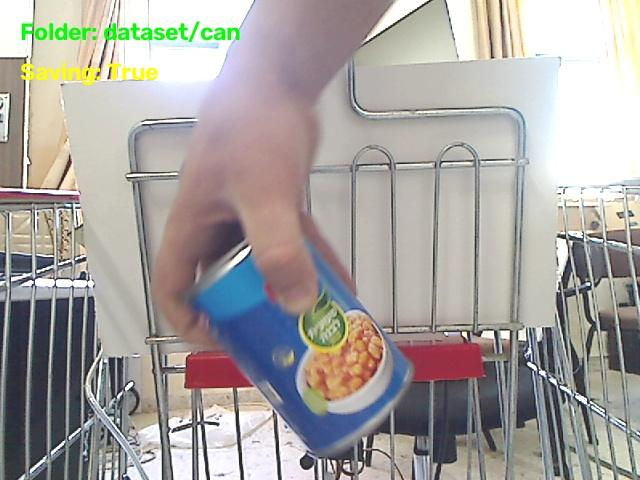can: (189, 243, 412, 456)
